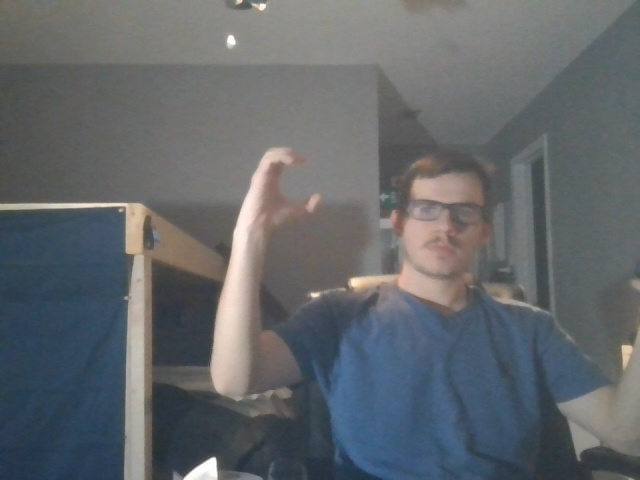C: (234, 138, 332, 238)
